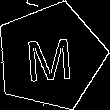M_N: (25, 29, 76, 83)
